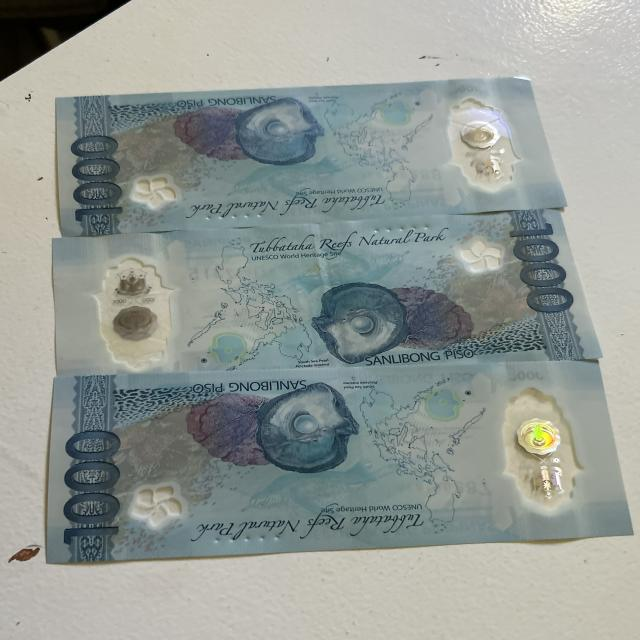clear_window: (490, 385, 590, 513), (89, 256, 183, 362), (433, 88, 524, 192)
sampaguita: (128, 484, 190, 525), (129, 174, 181, 217), (454, 236, 506, 273)
value: (65, 132, 125, 224)
